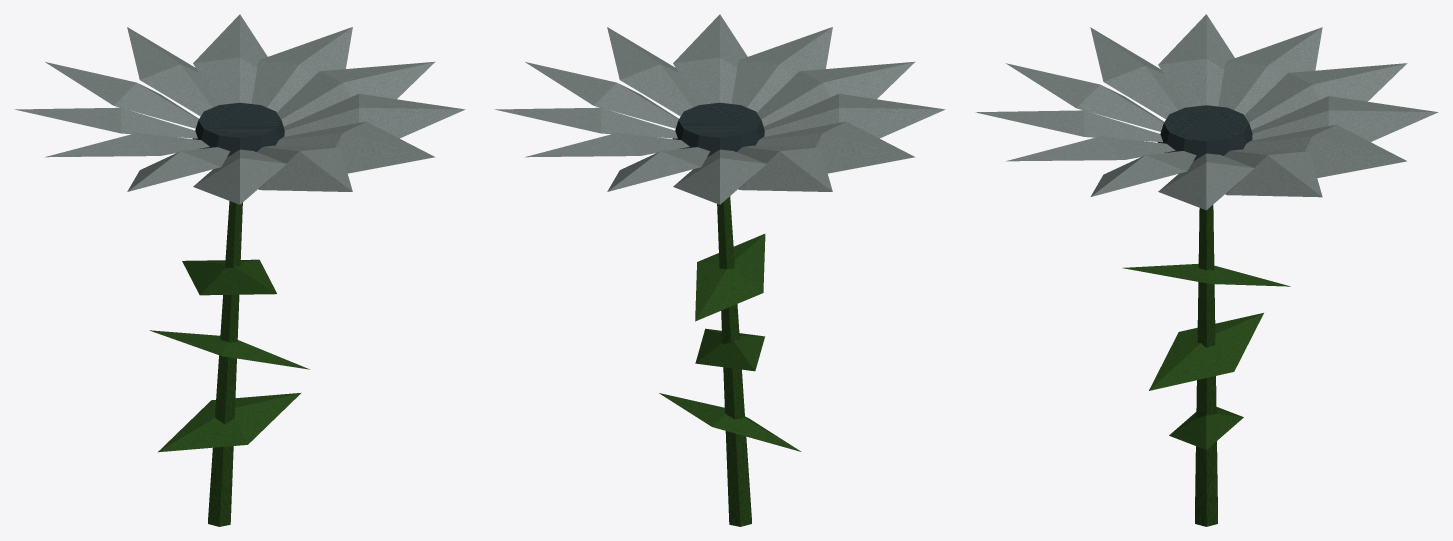
The model's file is mirror_sunflower_01.fbx.
The picture shows the model from 3 angles, left to right: view 1: azimuth 30°, elevation 25°; view 2: azimuth 150°, elevation 25°; view 3: azimuth 270°, elevation 25°; orthographic projection. The views are drawn at different scales.
Visible parts, largest first — view 1: mirror_sunflower_01_LOD0; view 2: mirror_sunflower_01_LOD0; view 3: mirror_sunflower_01_LOD0.
Part boxes in pixels (box(x1,y1,x2,y2)): mirror_sunflower_01_LOD0: box(14, 14, 465, 526); mirror_sunflower_01_LOD0: box(494, 14, 945, 526); mirror_sunflower_01_LOD0: box(975, 14, 1438, 526).
Size of what is drawn, in the model's own units: 1 by 1 by 1.
